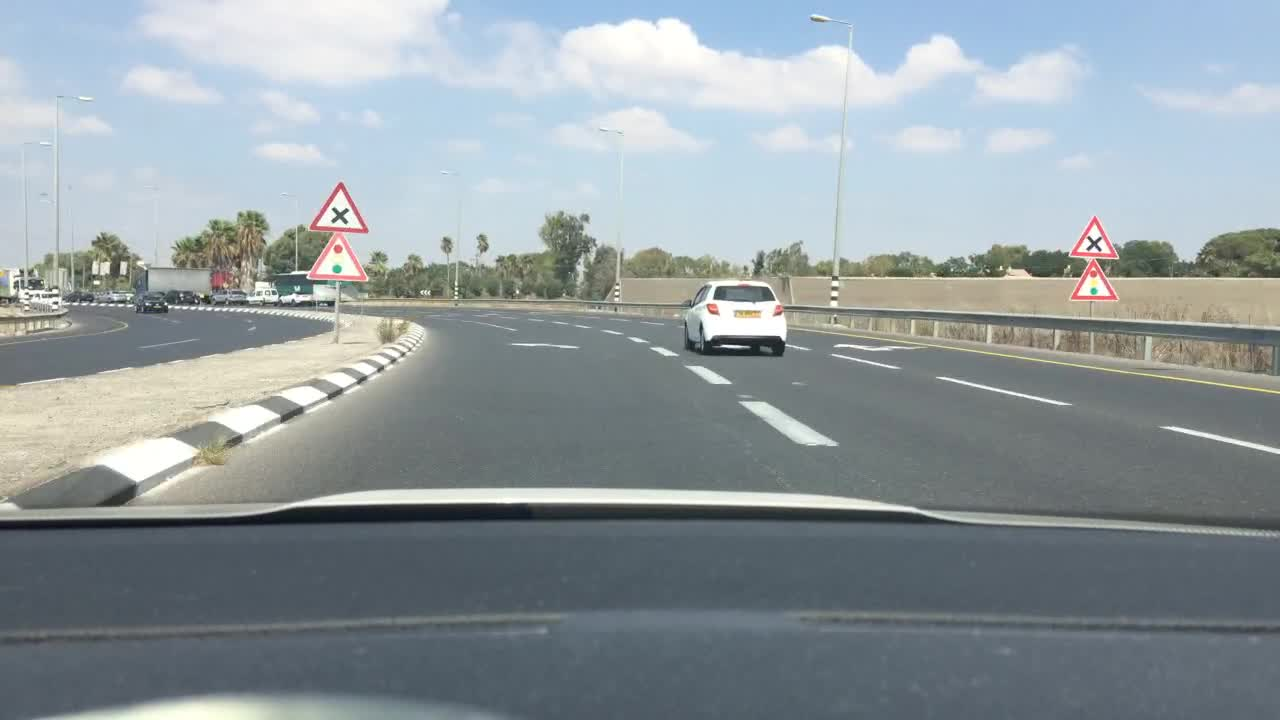car: (679, 277, 788, 354), (243, 285, 278, 306), (130, 297, 170, 315), (209, 288, 248, 305), (276, 291, 312, 305), (310, 285, 337, 303), (93, 291, 124, 304), (65, 290, 93, 304), (167, 290, 197, 302), (144, 288, 169, 299), (119, 291, 134, 302), (200, 292, 209, 303)
traffic sign: (305, 233, 372, 283), (307, 180, 370, 232), (1066, 214, 1121, 260), (1066, 263, 1123, 304), (416, 286, 432, 297), (219, 278, 230, 287), (90, 277, 100, 283)
truck: (0, 266, 46, 304)
